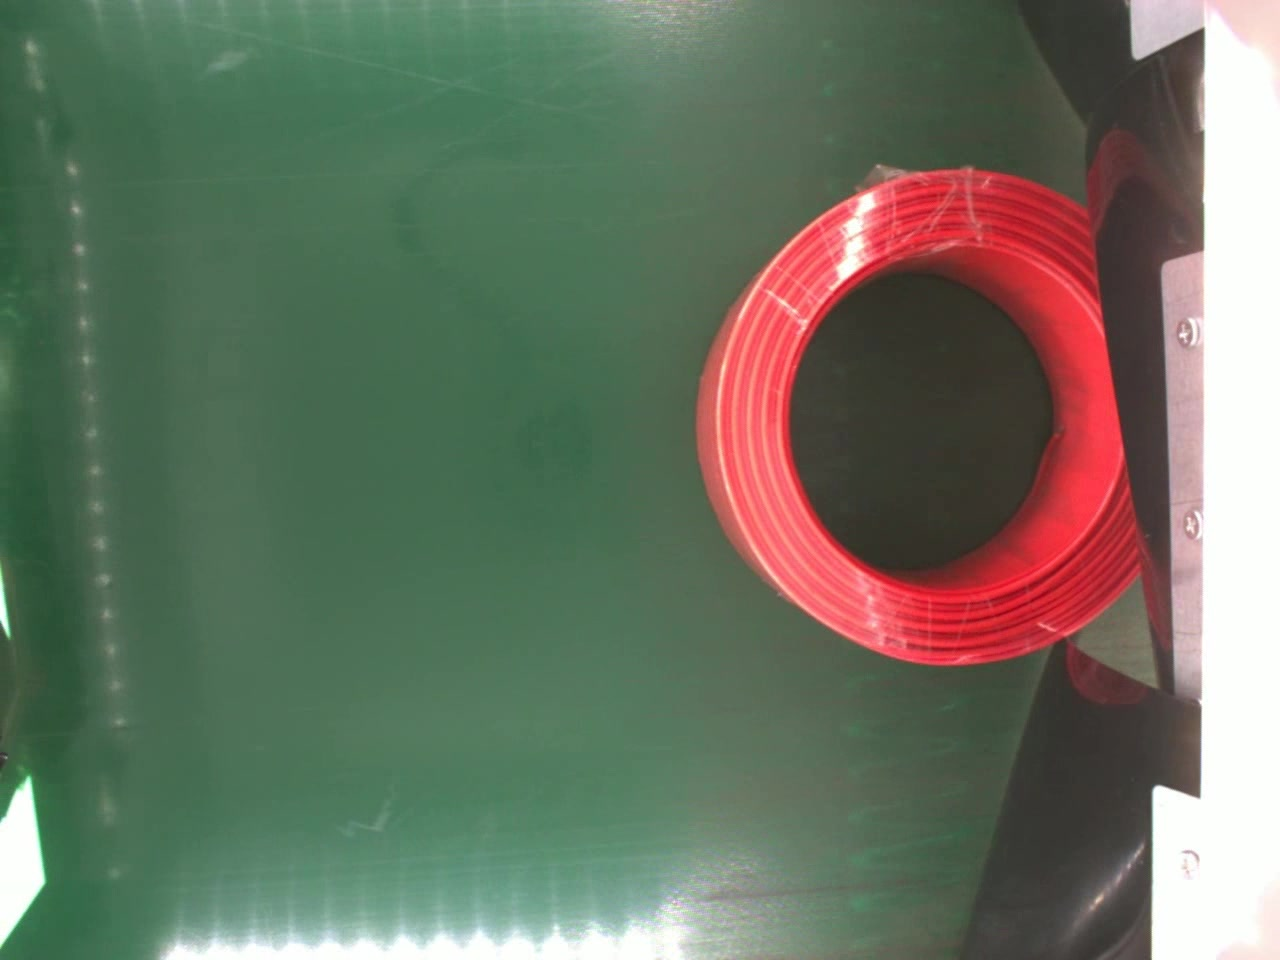red: (691, 163, 1144, 670)
